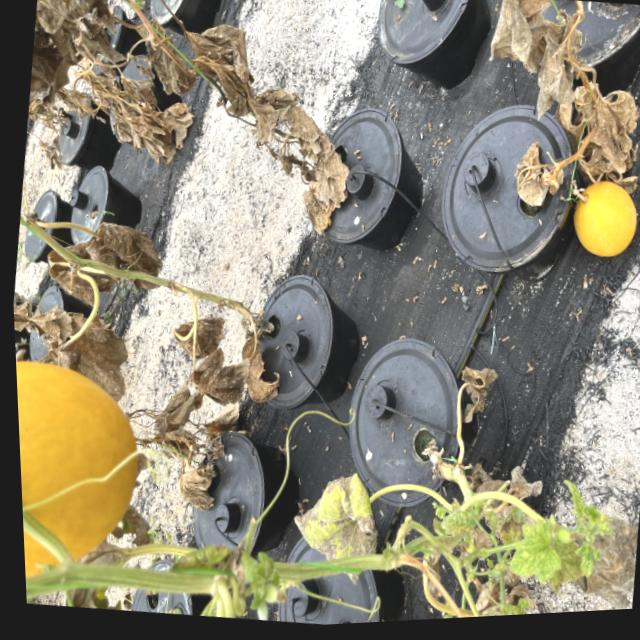CMV: (506, 509, 569, 588)
bacterial wilt: (283, 460, 389, 591), (172, 14, 261, 122), (531, 9, 605, 129), (78, 212, 169, 296), (125, 12, 204, 99), (39, 231, 120, 312), (585, 81, 640, 175), (482, 0, 552, 73), (184, 339, 254, 411), (232, 327, 288, 407), (508, 136, 558, 211), (169, 308, 229, 364), (240, 89, 294, 146), (454, 361, 501, 426), (172, 460, 219, 515), (296, 176, 338, 237), (122, 116, 176, 163), (28, 300, 76, 349), (157, 96, 197, 152), (506, 459, 547, 503), (201, 395, 242, 436), (35, 136, 67, 172), (13, 299, 36, 334)
